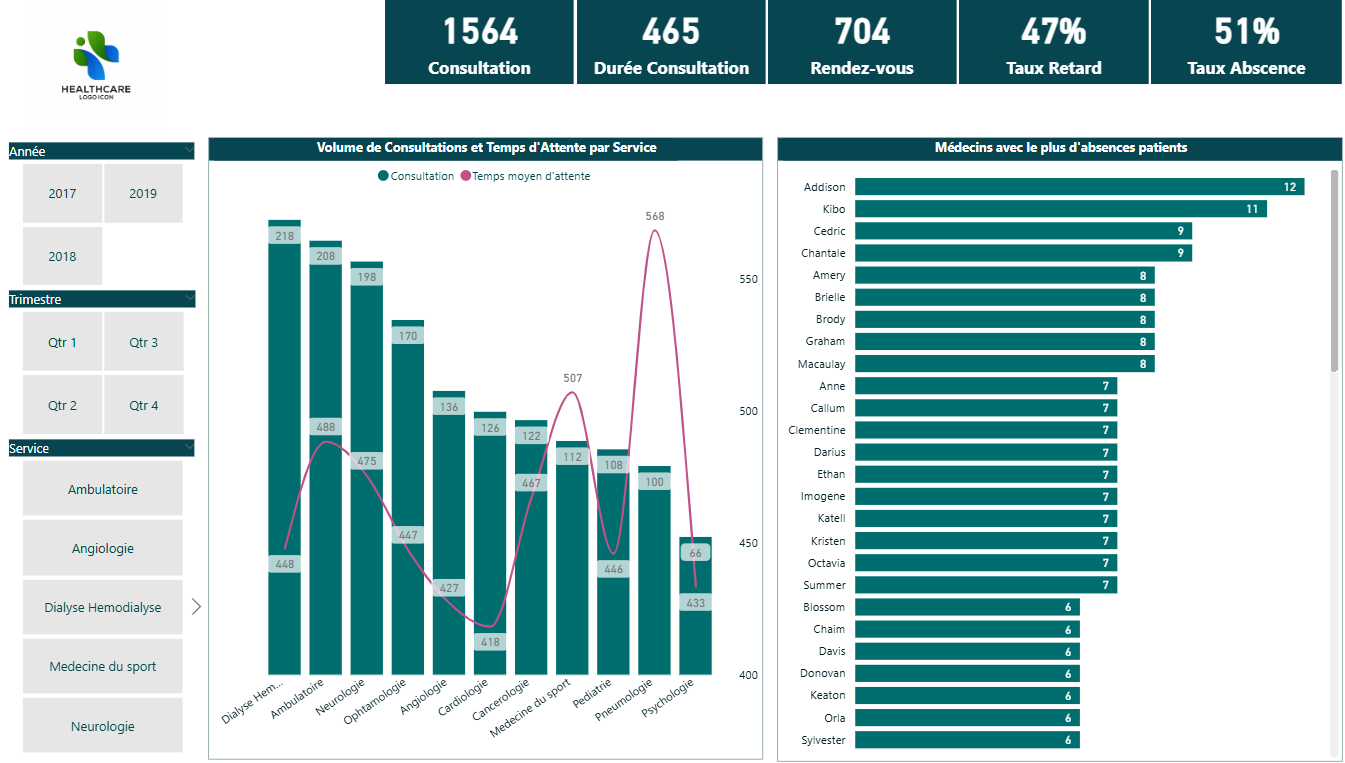

What the dashboard file says about the page in this screenshot:
{"tool":"powerbi","page":{"name":"Performance Opérationnelle (Consultations & RDV)","canvas":[1280,720],"ordinal":2},"visuals":[{"type":"card","fields":{"Values":["factRDV.TauxAbscence"]},"box":[1078,0,178.2,83.8],"z":0},{"type":"card","fields":{"Values":["factRDV.totalRDV"]},"box":[720.8,0,175.5,83.8],"z":1000},{"type":"card","fields":{"Values":["factRDV.TauxRetard"]},"box":[899,0,177.3,83.8],"z":2000},{"type":"slicer","fields":{"Values":["DateTable.Date.Variation.Date Hierarchy.Quarter"]},"box":[0,271.1,199.6,146.1],"z":3000},{"type":"slicer","fields":{"Values":["DateTable.Date.Variation.Date Hierarchy.Year"]},"box":[0,133,199,145.1],"z":4000},{"type":"slicer","fields":{"Values":["dimService.name"]},"box":[0,410.2,199,304.4],"z":5000},{"type":"image","box":[0,0,188.5,133],"z":6000},{"type":"card","fields":{"Values":["factTrackingConsultation.AvgTempConsultation"]},"box":[542.6,0,176.4,83.8],"z":7000},{"type":"card","fields":{"Values":["factTrackingConsultation.totalConsultation"]},"box":[363.5,0,176.4,83.8],"z":8000},{"type":"lineClusteredColumnComboChart","title":"Volume de Consultations et Temps d''Attente par Service","fields":{"Y":["factTrackingConsultation.totalConsultation"],"Y2":["Avg(factTrackingConsultation.waiting_time_consultation)"],"Category":["dimService.name"]},"box":[198.7,133.4,517.8,581.2],"z":11000},{"type":"clusteredBarChart","title":"Médecins avec le plus d''absences patients","fields":{"Category":["dimStaff.name"],"Y":["factRDV.Total Absence"]},"box":[729.6,133.4,528,583.1],"z":11001}]}

Visuals, with their boxes in screenshot pixels (x1, y1, x2, y2), scaled from the page's 1280x720 canvas onto the 1345x763 screenshot:
card - factRDV.TauxAbscence: {"left": 1133, "top": 0, "right": 1320, "bottom": 89}
card - factRDV.totalRDV: {"left": 757, "top": 0, "right": 942, "bottom": 89}
card - factRDV.TauxRetard: {"left": 945, "top": 0, "right": 1131, "bottom": 89}
slicer - DateTable.Date.Variation.Date Hierarchy.Quarter: {"left": 0, "top": 287, "right": 210, "bottom": 442}
slicer - DateTable.Date.Variation.Date Hierarchy.Year: {"left": 0, "top": 141, "right": 209, "bottom": 295}
slicer - dimService.name: {"left": 0, "top": 435, "right": 209, "bottom": 757}
image: {"left": 0, "top": 0, "right": 198, "bottom": 141}
card - factTrackingConsultation.AvgTempConsultation: {"left": 570, "top": 0, "right": 756, "bottom": 89}
card - factTrackingConsultation.totalConsultation: {"left": 382, "top": 0, "right": 567, "bottom": 89}
"Volume de Consultations et Temps d''Attente par Service" lineClusteredColumnComboChart: {"left": 209, "top": 141, "right": 753, "bottom": 757}
"Médecins avec le plus d''absences patients" clusteredBarChart: {"left": 767, "top": 141, "right": 1321, "bottom": 759}
